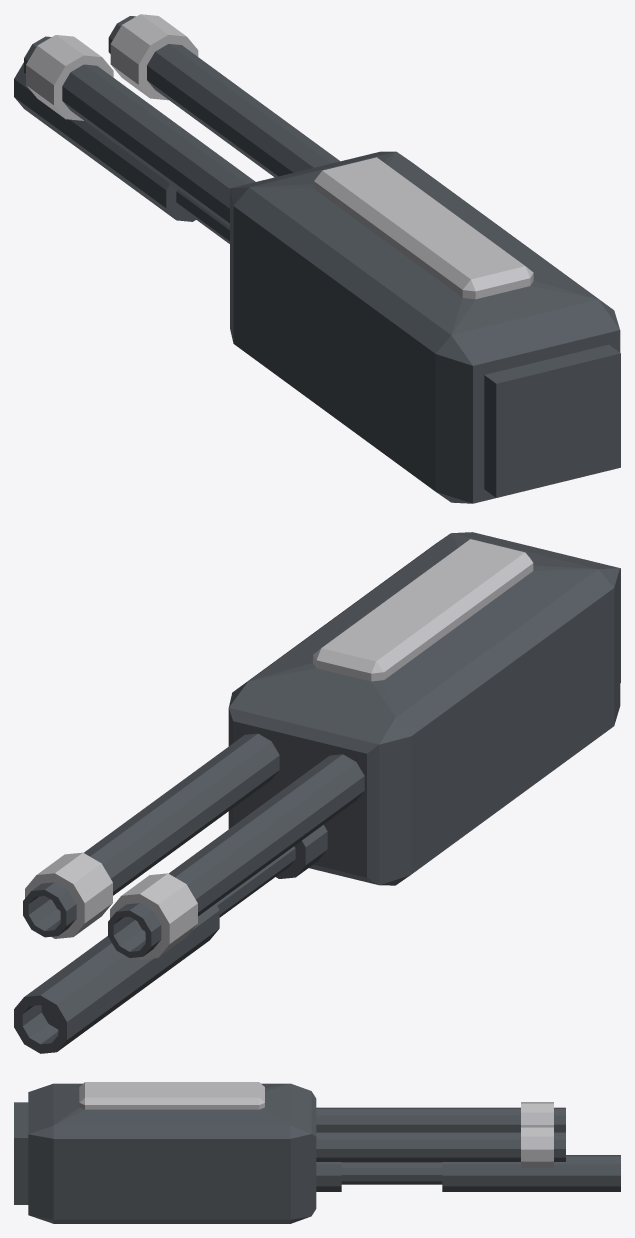
The model's file is Dropship_03_Minigun.fbx.
The picture shows the model from 3 angles, top to bottom: view 1: azimuth 30°, elevation 25°; view 2: azimuth 150°, elevation 25°; view 3: azimuth 270°, elevation 25°; orthographic projection. The views are drawn at different scales.
Parts seen in each view (by area): view 1: Dropship_03_Minigun; view 2: Dropship_03_Minigun; view 3: Dropship_03_Minigun.
Boxes of the visible parts, bbox=[...] form: Dropship_03_Minigun: bbox=[14, 14, 620, 503]; Dropship_03_Minigun: bbox=[14, 532, 620, 1053]; Dropship_03_Minigun: bbox=[14, 1082, 620, 1223].
Size of the model in its own units: 46.05 by 47.4 by 231.
1 material, 1 textured.
